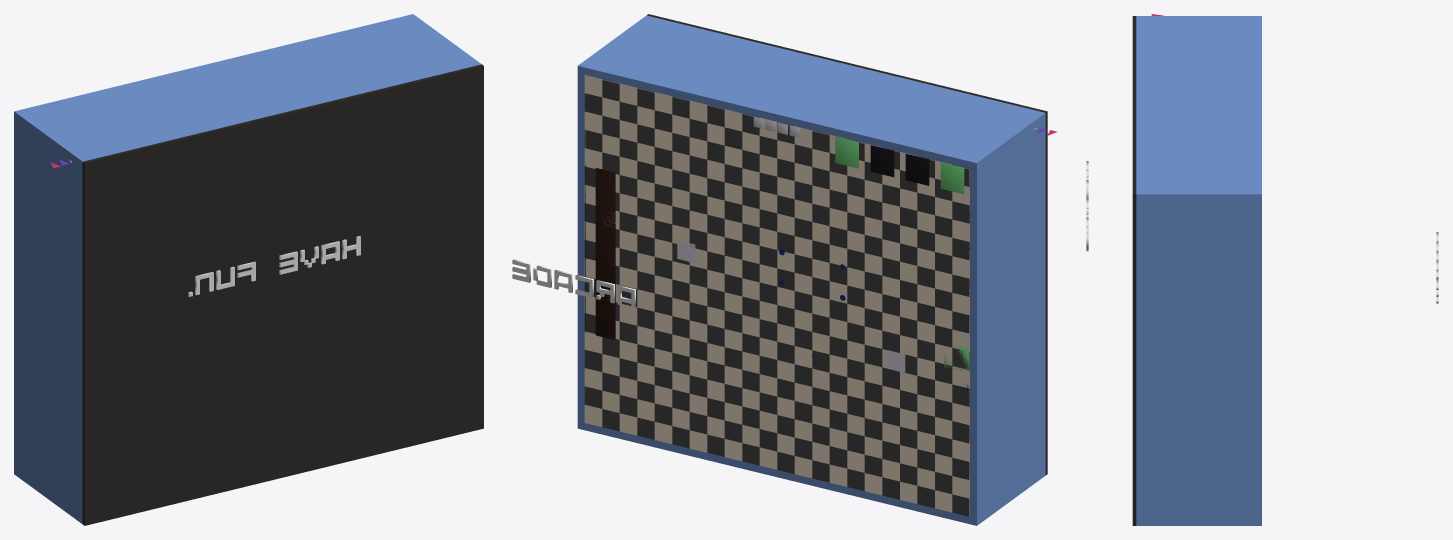
Rendered from ArcadeRoom.fbx.
3 views of the same model, side by side, from view 1: azimuth 30°, elevation 25°; view 2: azimuth 150°, elevation 25°; view 3: azimuth 270°, elevation 25° (orthographic). The views are drawn at different scales.
Visible parts, largest first — view 1: Ceiling, Wall_Back, Wall_Left, Text, Wall_Front; view 2: Floor, Wall_Back, Wall_Left, Wall_Front, PrizeCounter_Mesh, Wall_Right, Ceiling, Text.001, Cabinet_A_Mesh, Cabinet_D_Mesh, Cabinet_C_Mesh, Cabinet_B_Mesh; view 3: Wall_Right, Wall_Back, Ceiling, Wall_Front.
Part boxes in pixels (box(x1,y1,x2,y2)): Ceiling: box(82, 64, 483, 525); Wall_Back: box(14, 14, 481, 168); Wall_Left: box(14, 119, 82, 516); Text: box(188, 236, 360, 296); Wall_Front: box(14, 467, 82, 523); Floor: box(584, 75, 969, 516); Wall_Back: box(577, 15, 1045, 170); Wall_Left: box(970, 120, 1045, 518); Wall_Front: box(577, 421, 1045, 525); PrizeCounter_Mesh: box(585, 165, 615, 340); Wall_Right: box(577, 73, 584, 422); Ceiling: box(647, 14, 1047, 475); Text.001: box(512, 259, 635, 308); Cabinet_A_Mesh: box(870, 145, 894, 177); Cabinet_D_Mesh: box(940, 162, 964, 194); Cabinet_C_Mesh: box(905, 154, 929, 185); Cabinet_B_Mesh: box(835, 136, 858, 168); Wall_Right: box(1136, 201, 1261, 519); Wall_Back: box(1136, 16, 1261, 200); Ceiling: box(1132, 16, 1136, 525); Wall_Front: box(1136, 519, 1261, 525).
Size of the model in its own units: 11.99 by 9.9 by 9.52.
